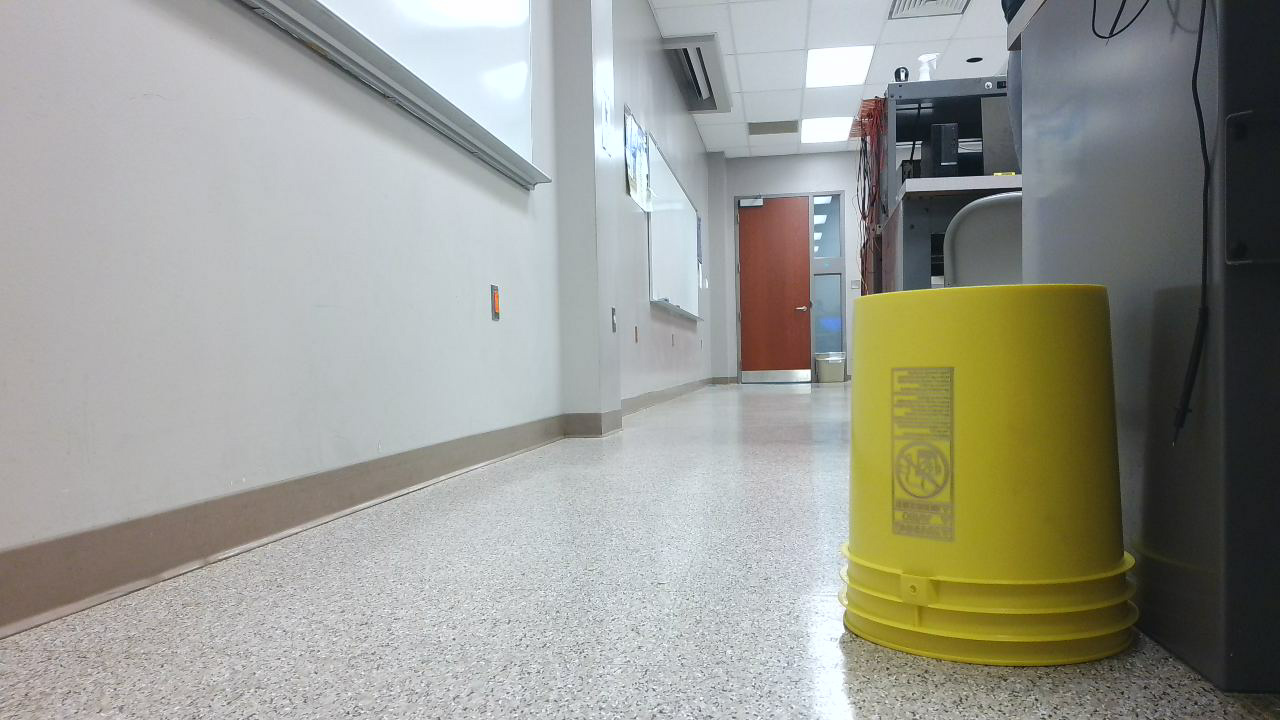yellow_bucket: (840, 283, 1151, 678)
